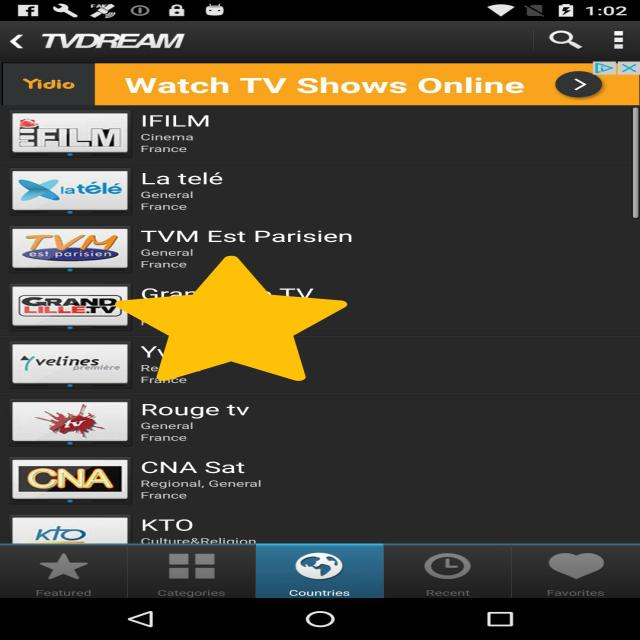forced continuity: (115, 256, 347, 381)
